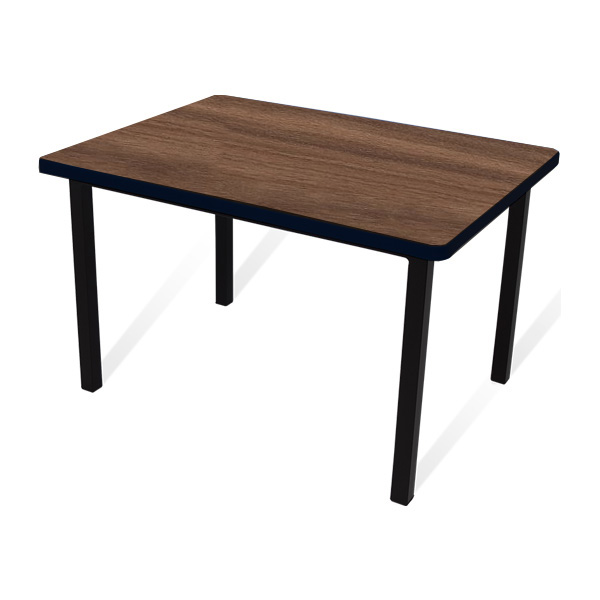m01: (38, 93, 560, 506)
